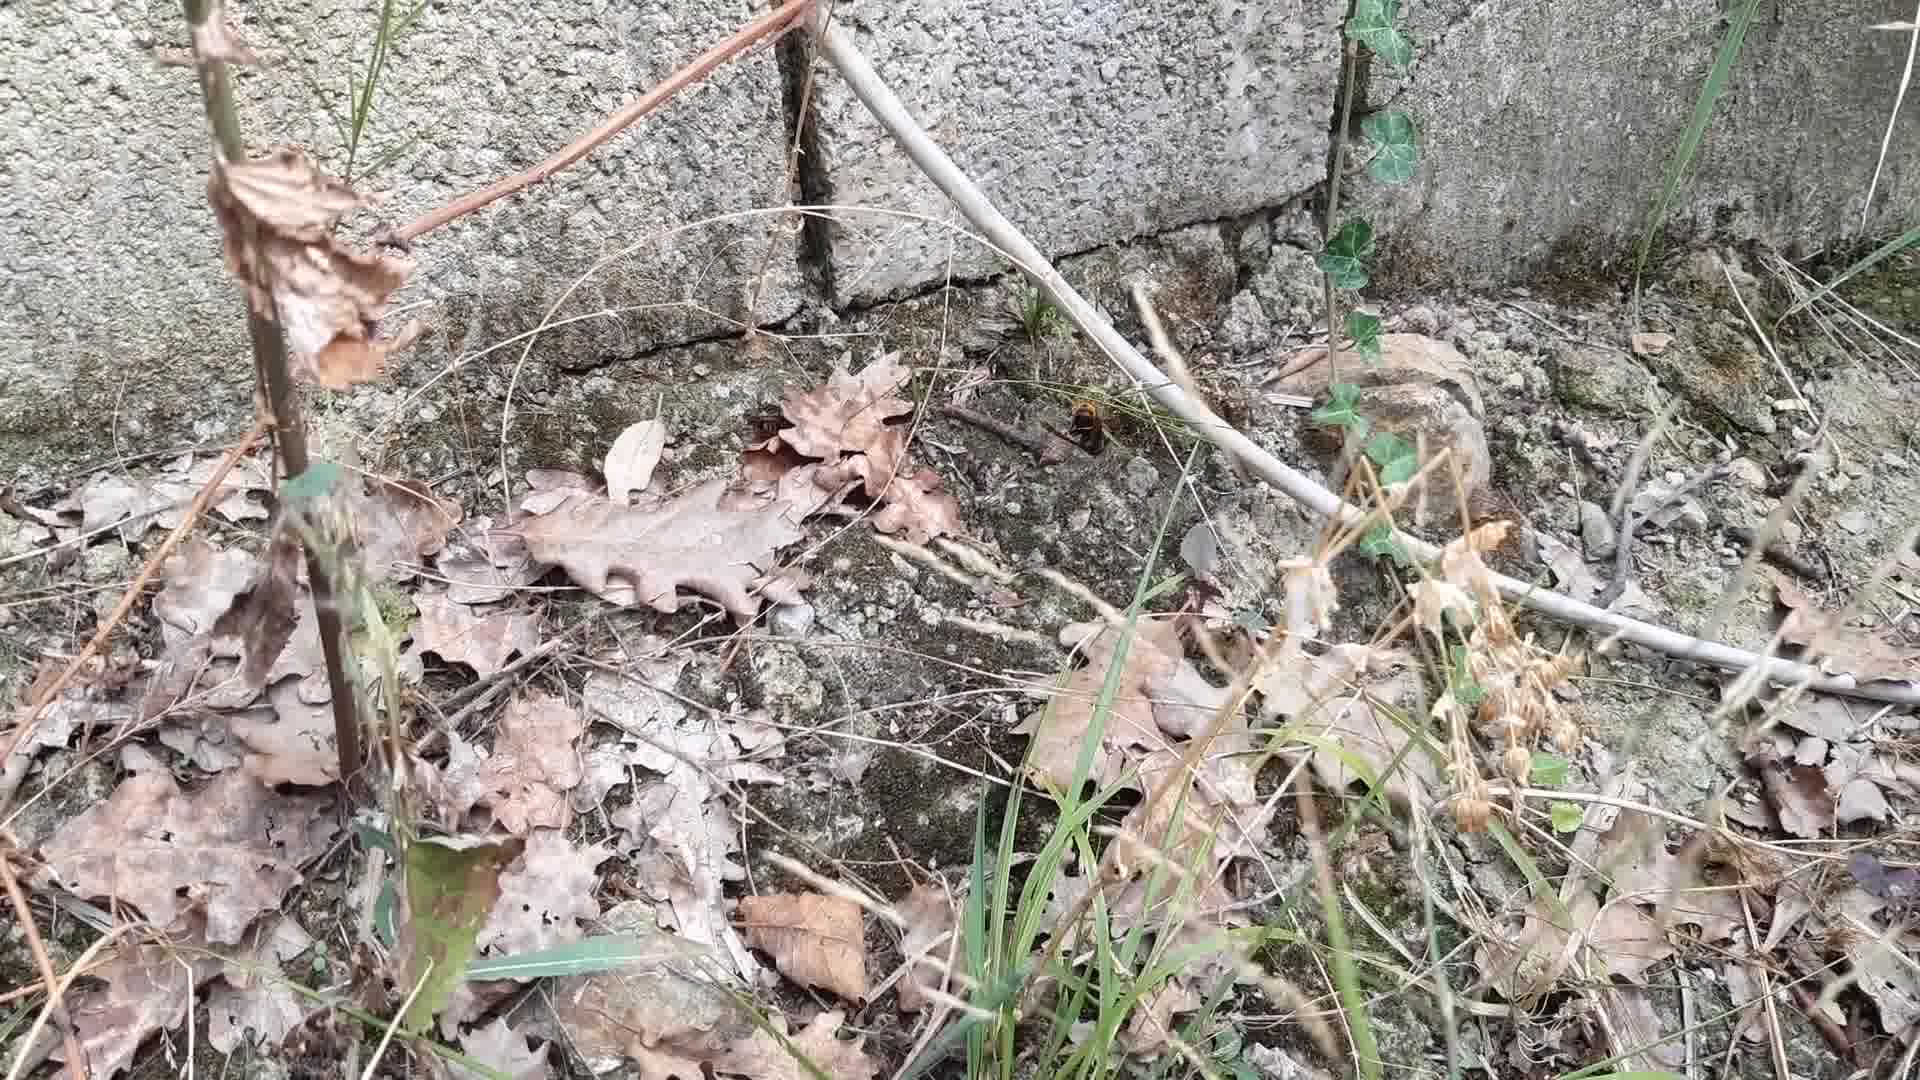hornet: (1055, 393, 1120, 463)
